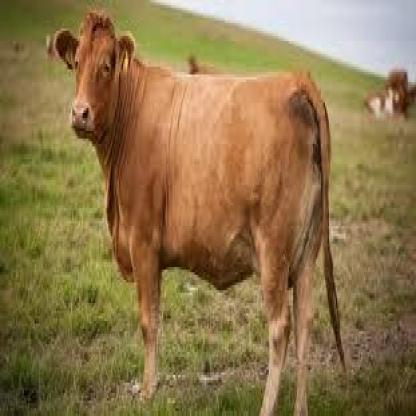cow: (57, 9, 344, 415), (362, 81, 402, 119)
